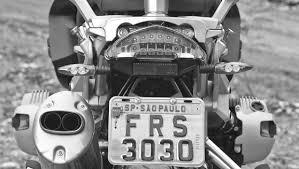placa_antiga: (110, 97, 206, 168)
